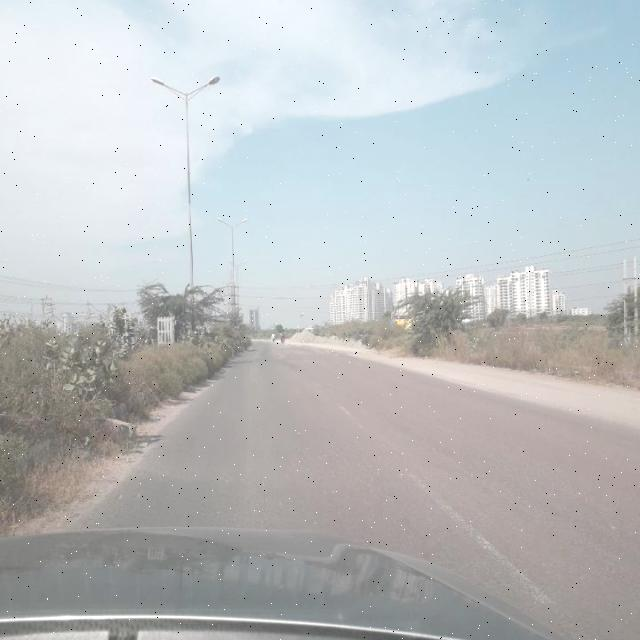D00: (429, 442, 558, 522)
D44: (408, 462, 552, 609), (314, 381, 378, 440)
